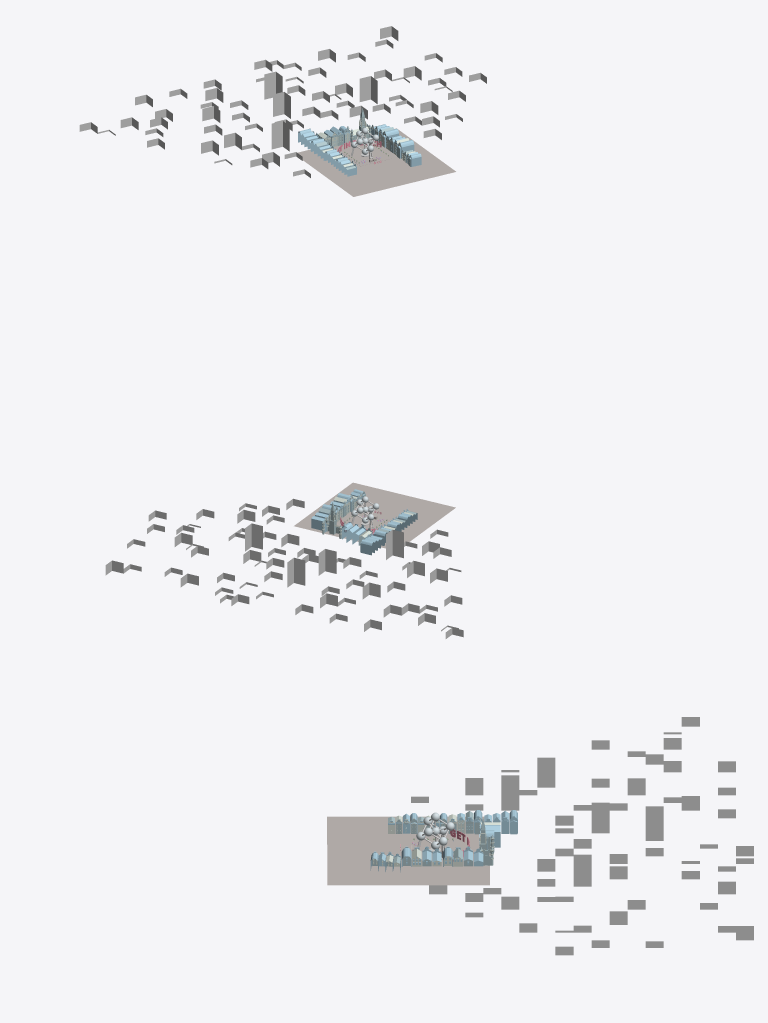
File: country-belgium.glb
The picture shows the model from 3 angles, top to bottom: view 1: azimuth 30°, elevation 25°; view 2: azimuth 150°, elevation 25°; view 3: azimuth 270°, elevation 25°; orthographic projection. The views are drawn at different scales.
Parts seen in each view (by area): view 1: cityBe, floorBe, buildingsBe; view 2: cityBe, floorBe, buildingsBe; view 3: cityBe, floorBe, buildingsBe, balls.
Boxes of the visible parts, <box> form: cityBe: <box>79,26,486,177</box>; floorBe: <box>297,128,455,196</box>; buildingsBe: <box>298,108,421,176</box>; cityBe: <box>105,498,463,638</box>; floorBe: <box>294,482,455,548</box>; buildingsBe: <box>311,489,417,555</box>; cityBe: <box>411,717,753,955</box>; floorBe: <box>327,816,489,885</box>; buildingsBe: <box>370,810,517,872</box>; balls: <box>416,812,454,849</box>.
Size of the model in its own units: 794 by 52.42 by 794.
